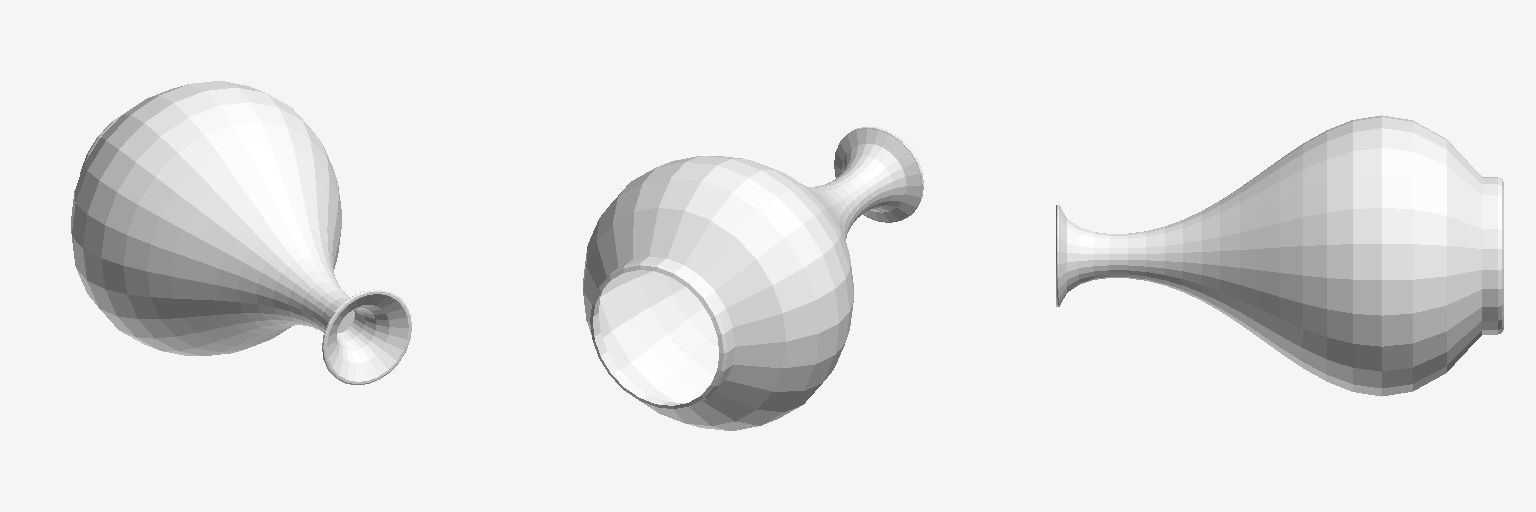
Rendered from vase3.obj.
3 renders of one model, left to right at view 1: azimuth 30°, elevation 25°; view 2: azimuth 150°, elevation 25°; view 3: azimuth 270°, elevation 25°, orthographic.
Bounding box in the file's own units: 14.12 × 14.12 × 22.4.